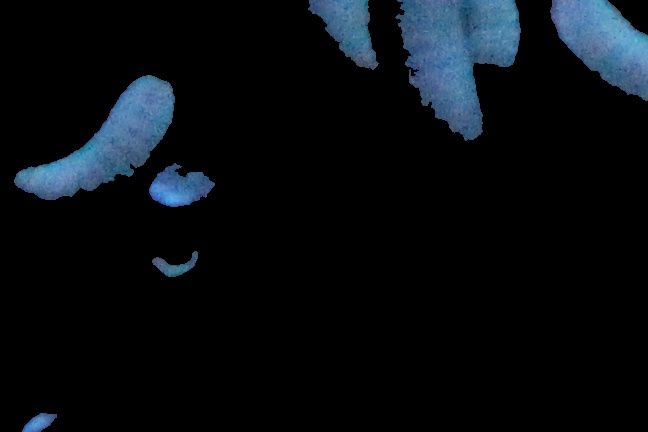larvae: (1, 52, 178, 208), (373, 1, 496, 171), (550, 1, 648, 103), (290, 1, 402, 88), (458, 1, 522, 71)
